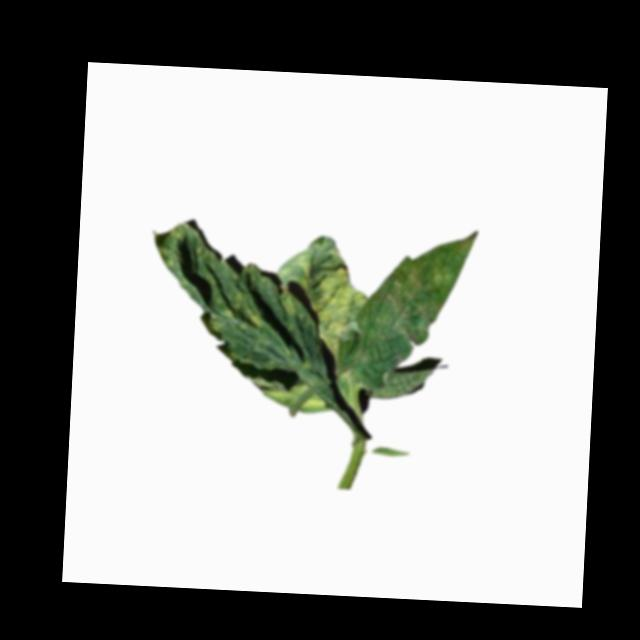Leaf_Mold: (367, 225, 477, 370), (148, 220, 276, 341), (274, 250, 374, 367)
